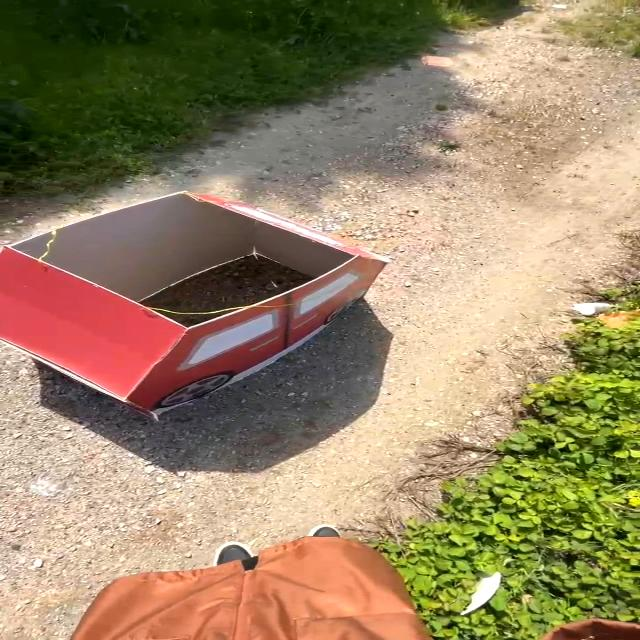red_car: (0, 166, 412, 441)
